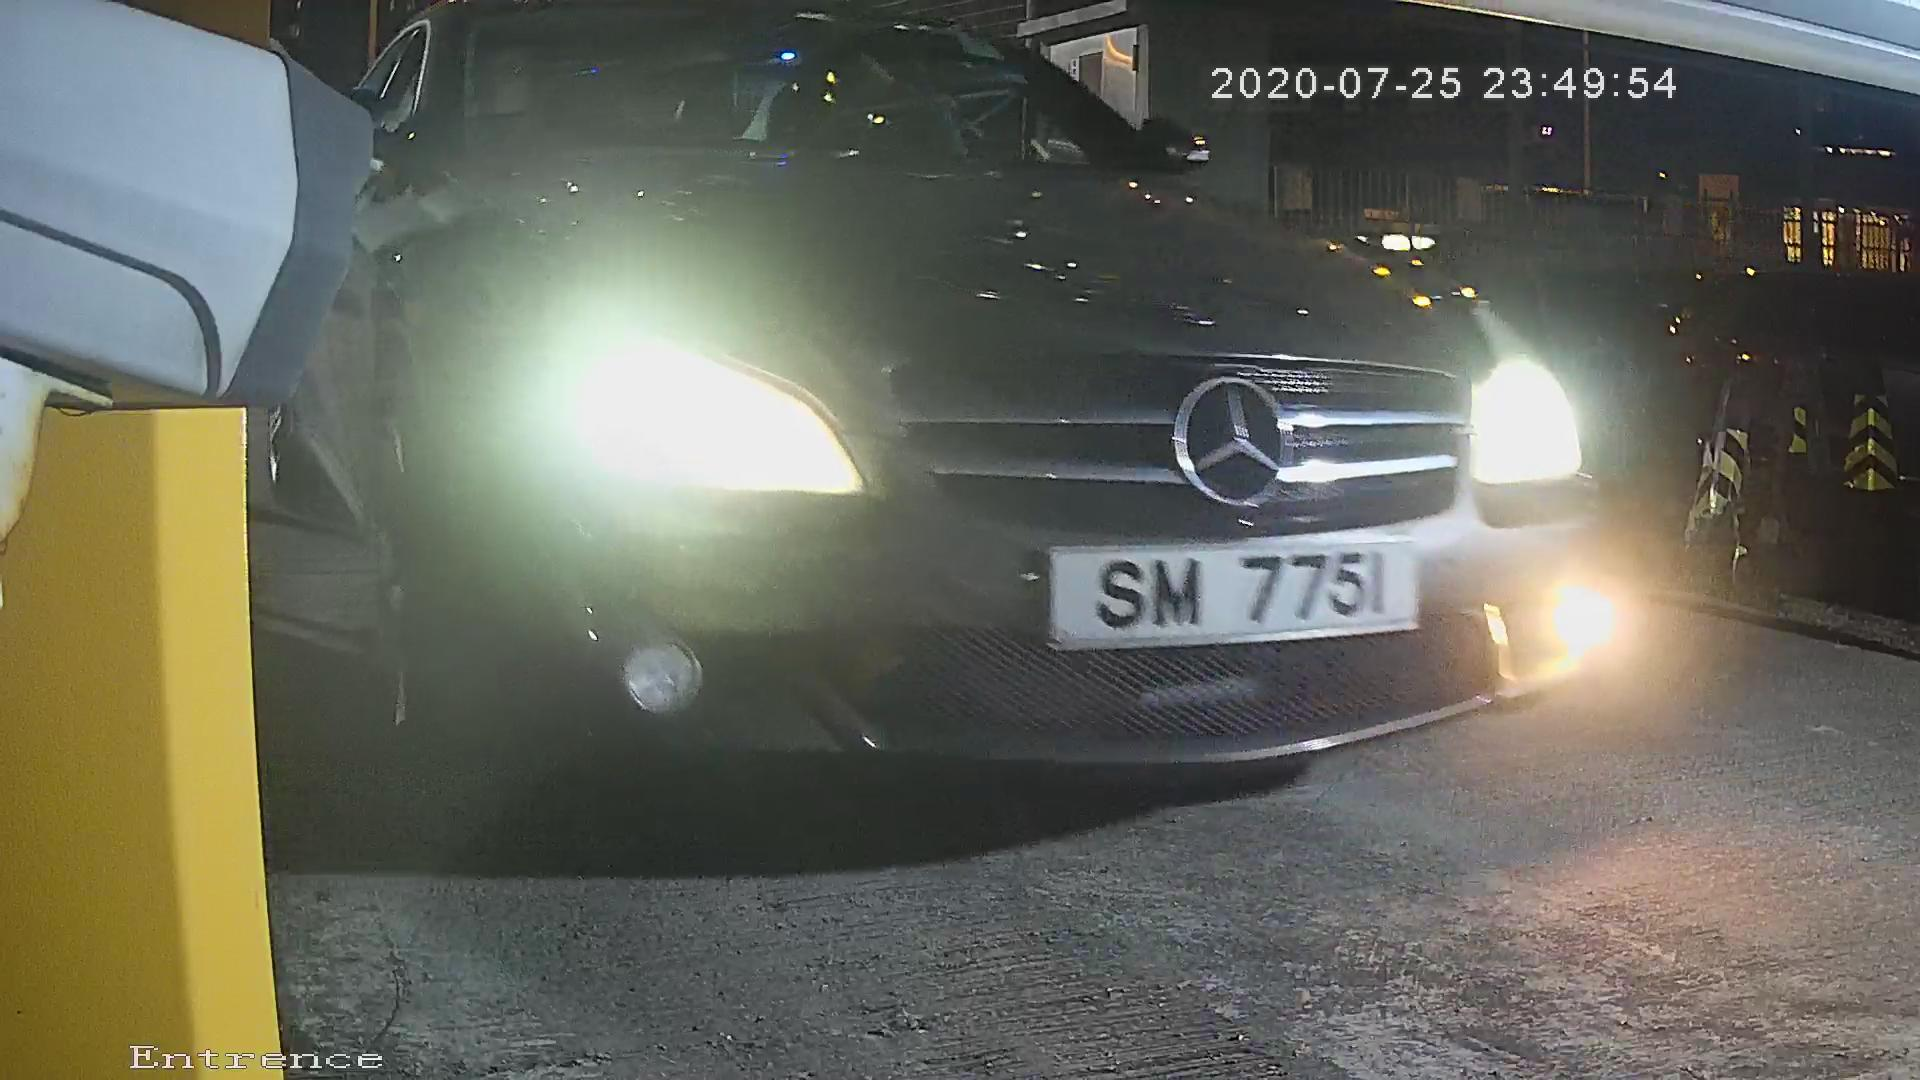privatecar: (309, 25, 1578, 835)
